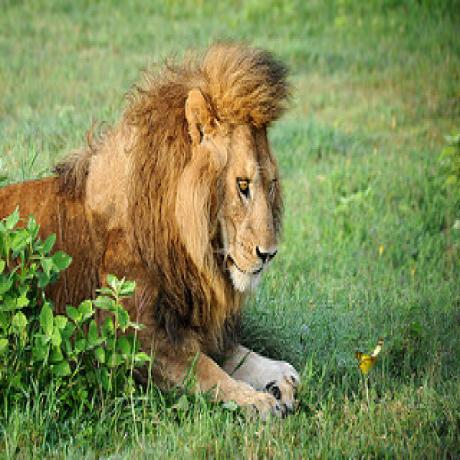Lion: (0, 44, 305, 418)
